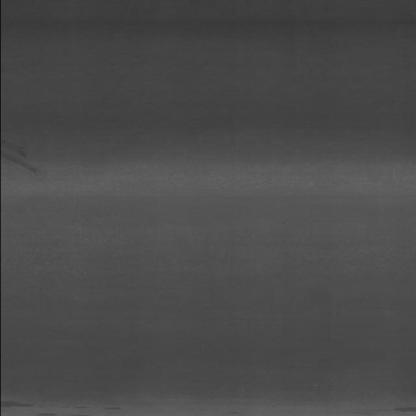water_spot: (1, 139, 70, 178)
